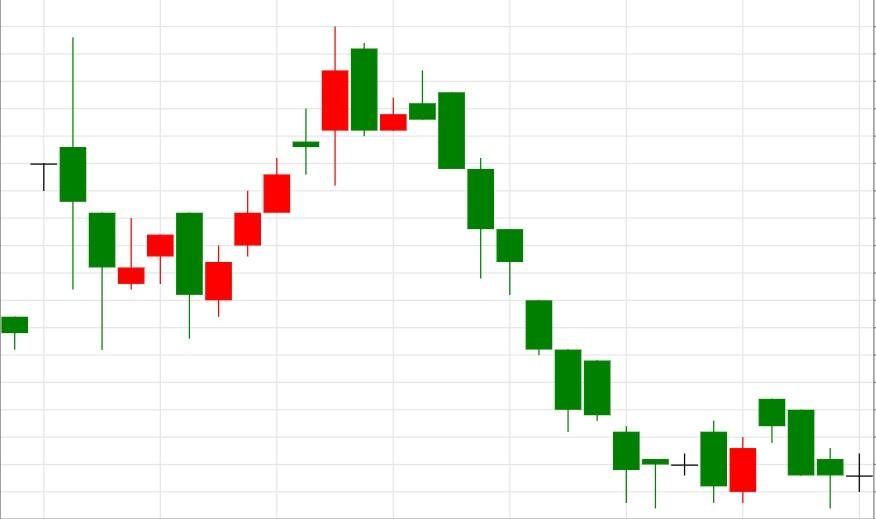three_black_crows_fall: (350, 42, 524, 295)
three_white_soldiers_rise: (59, 36, 291, 351)
